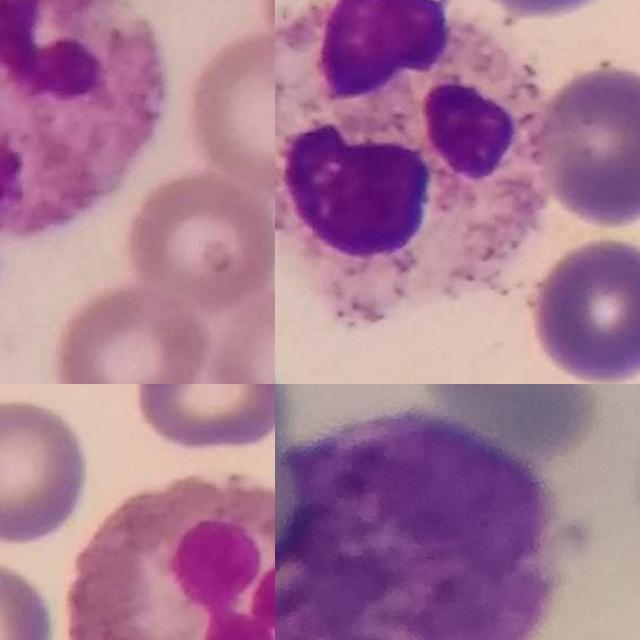Basophil: (275, 407, 551, 640)
Eosinophil: (61, 473, 275, 640)
Neutrophil: (275, 0, 545, 309), (0, 0, 165, 237)
